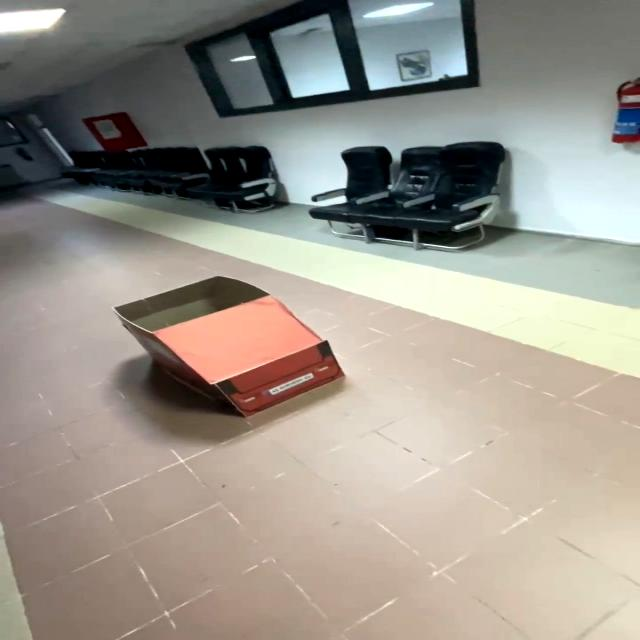red_car: (77, 258, 384, 447)
